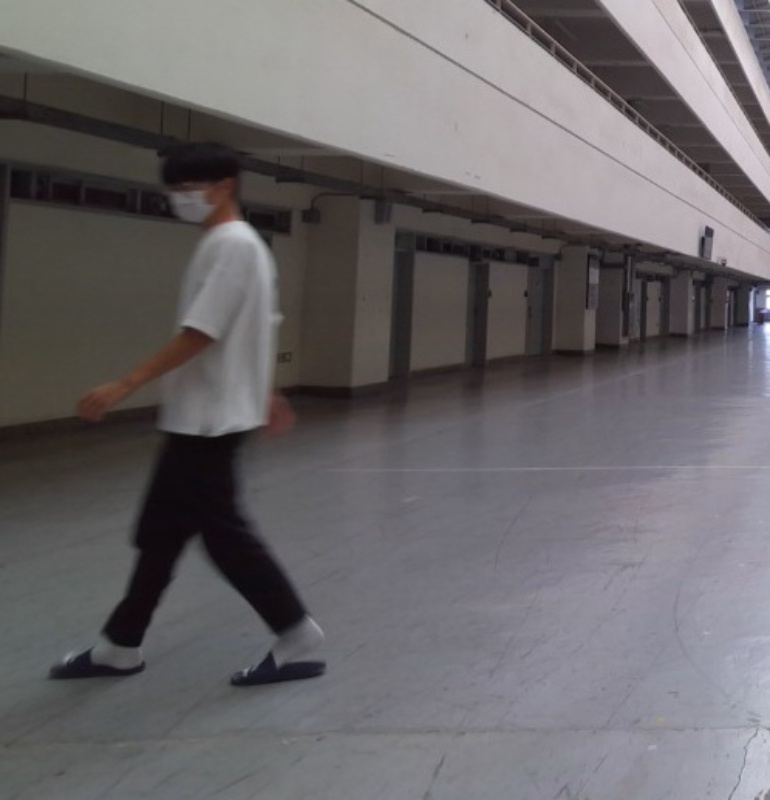person: (45, 139, 332, 692)
